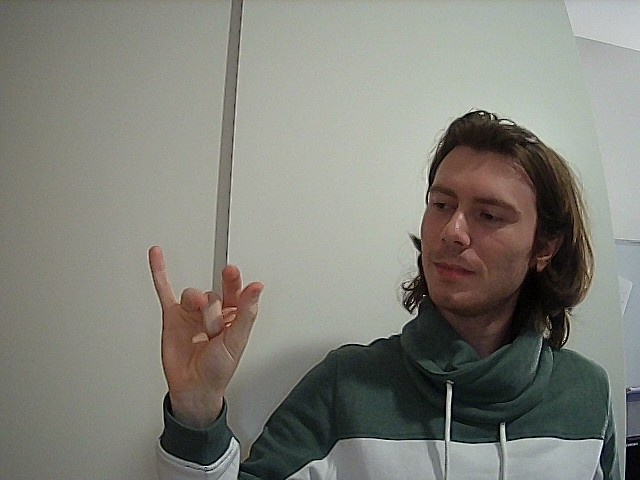reset: (134, 224, 266, 408)
